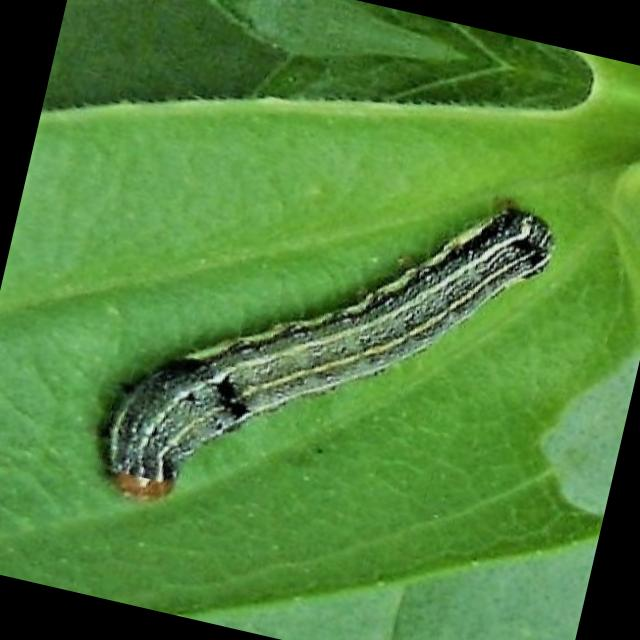Armyworm: (14, 115, 596, 592)
